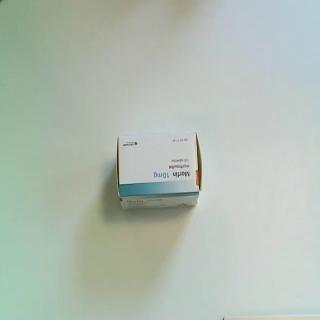morfin10mg: (116, 130, 204, 214)
